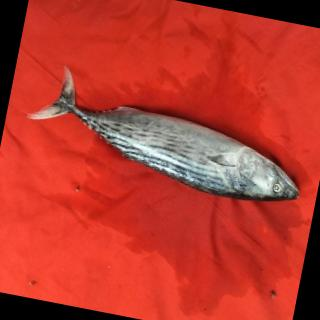Ikan: (30, 61, 320, 231)
